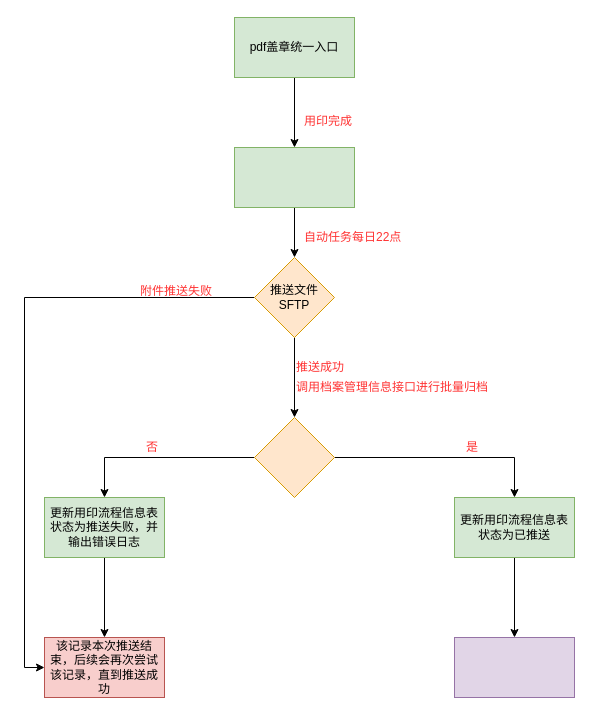
Image size: 592x715. Some labels were removed from this diagram. The centre of each missing label's shape, as x and y in pixels:
接口调用是否成功: point 294,457
本记录推送结束: point 514,667
表中记录用印流程消息: point 294,177
